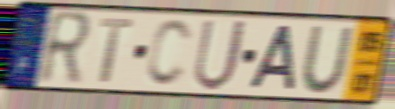A: (246, 23, 297, 93)
C: (143, 16, 194, 90)
R: (36, 8, 95, 88)
T: (98, 17, 136, 86)
U: (190, 17, 250, 94), (300, 25, 356, 96)
